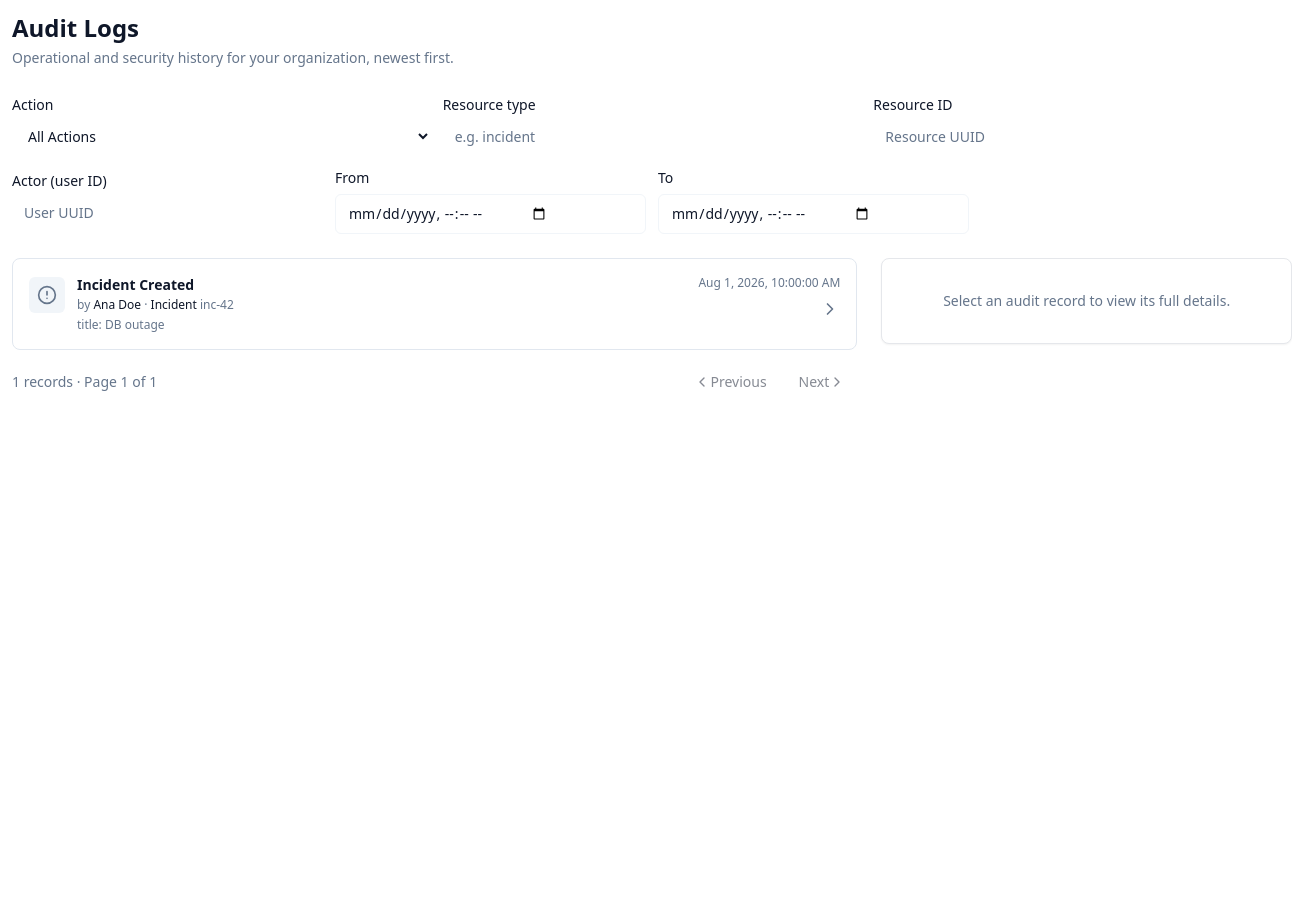
Test: AuditLogsPage › renders the detail panel when a record is selected
The width and height of the screenshot is (1304, 912).
Step 1. Click the button with aria-label "View audit log: Incident Created" → (47, 295), box [12,258,857,350]
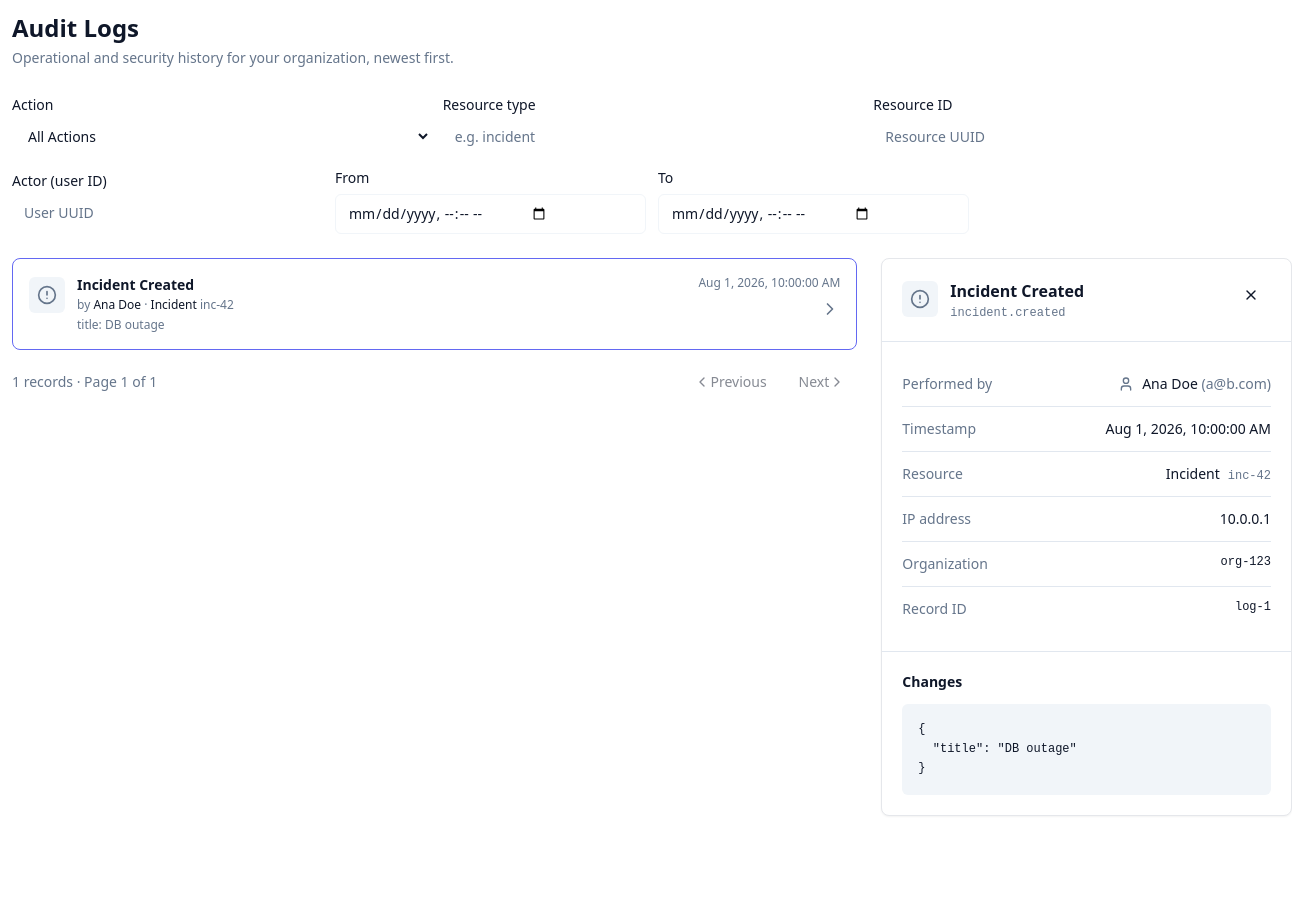
Expected: the text "Performed by" is shown, [902,374,992,394]
Expected: the text "Record ID" is shown, [902,599,967,619]
